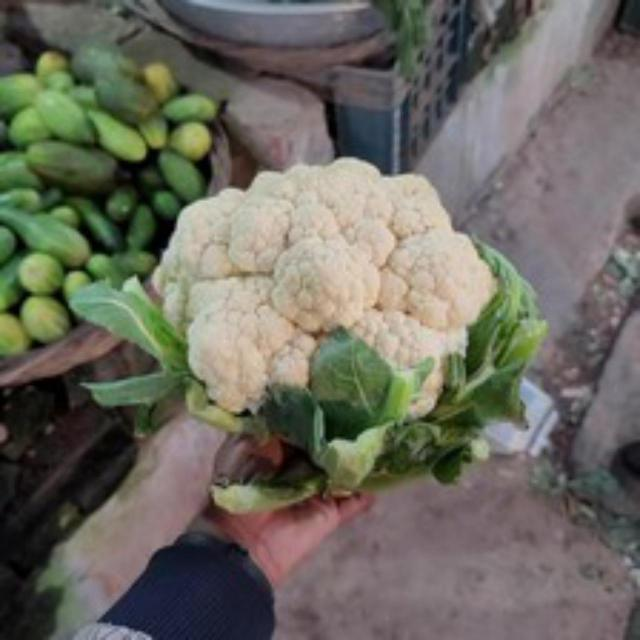cauliflower: (158, 150, 524, 430)
